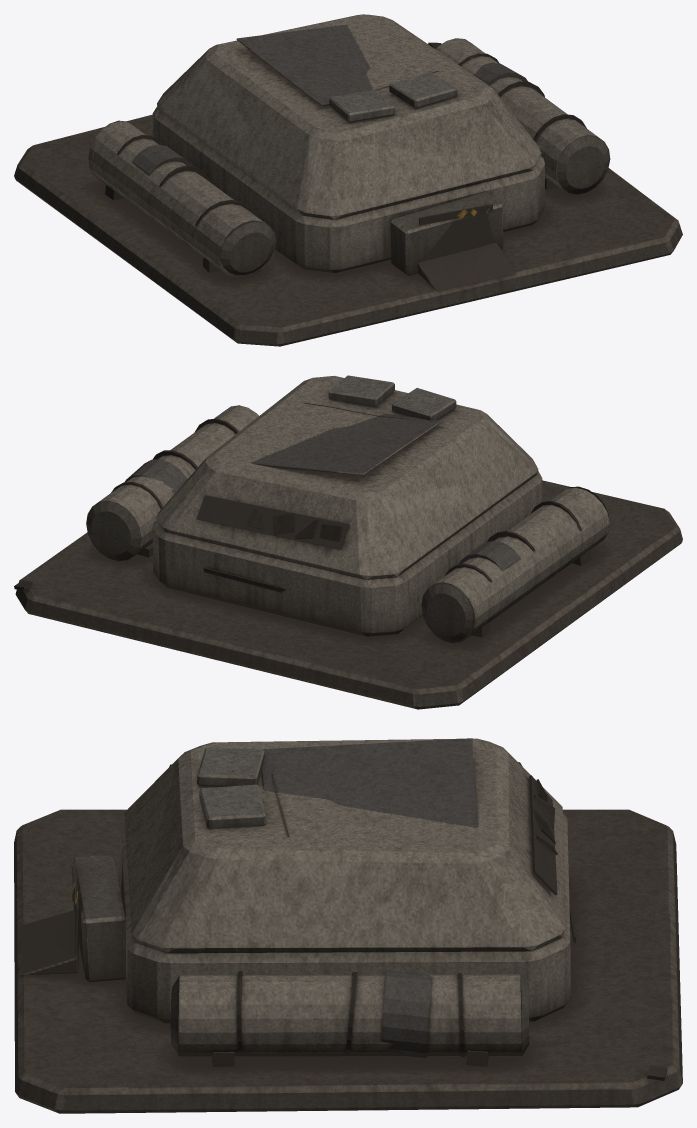
Rendered from ord_depot_wreck.fbx.
3 views of the same model, one above another, from view 1: azimuth 30°, elevation 25°; view 2: azimuth 150°, elevation 25°; view 3: azimuth 270°, elevation 25° (orthographic). The views are drawn at different scales.
Visible parts, largest first — view 1: base_bar; view 2: base_bar; view 3: base_bar.
Part boxes in pixels (<box>): base_bar: <box>14,14,682,346</box>; base_bar: <box>14,375,682,709</box>; base_bar: <box>14,738,682,1113</box>.
Bounding box in the file's own units: 1569 × 690 × 1560.
Materials: 2 (2 with a texture image).
